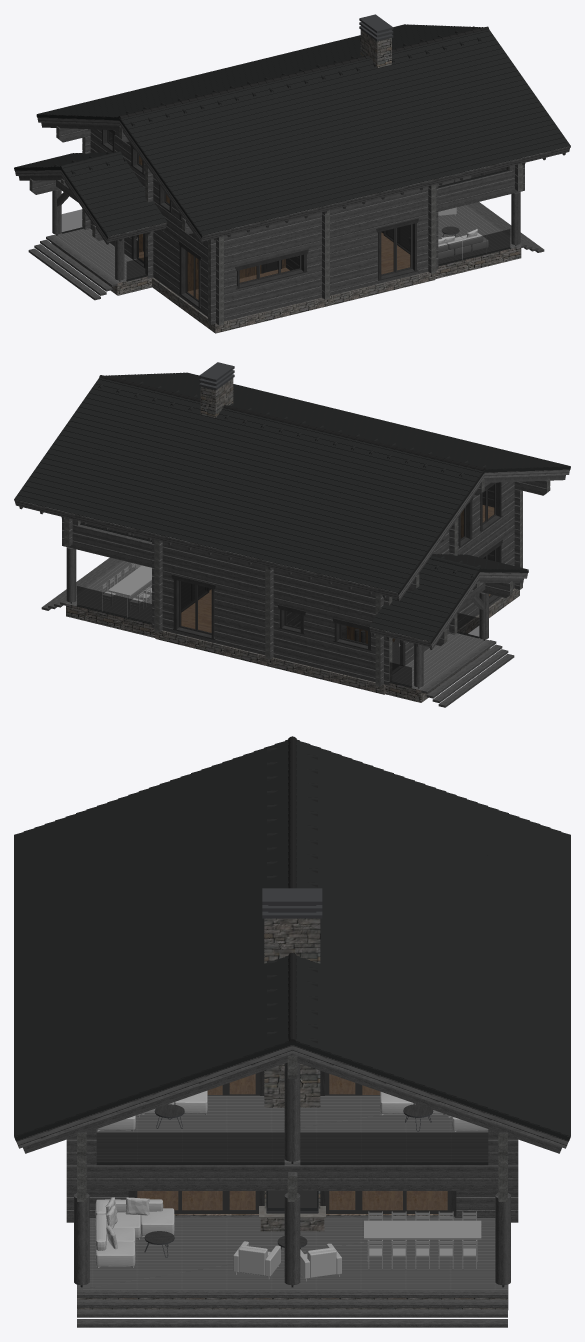
3 views of the same model, one above another, from view 1: azimuth 30°, elevation 25°; view 2: azimuth 150°, elevation 25°; view 3: azimuth 270°, elevation 25° (orthographic). The views are drawn at different scales.
Visible parts, largest first — view 1: Material12, Material13, Material5, Material28, Material11, Material8, Material26, Material14, Material1, Material24, Material34, Material45 (+4 smaller); view 2: Material12, Material13, Material5, Material28, Material11, Material8, Material26, Material14, Material1, Material34, Material38, Material24 (+3 smaller); view 3: Material12, Material11, Material13, Material28, Material5, Material45, Material1, Material8, Material17, Material38, Material36, Material35 (+4 smaller).
Boxes of the visible parts, x1,y1,x2,y2 form: Material12: [14, 24, 570, 281]; Material13: [18, 122, 565, 324]; Material5: [51, 30, 521, 333]; Material28: [61, 131, 510, 299]; Material11: [52, 168, 520, 283]; Material8: [15, 117, 570, 242]; Material26: [101, 129, 459, 309]; Material14: [29, 126, 522, 325]; Material1: [52, 189, 520, 280]; Material24: [107, 130, 412, 301]; Material34: [118, 26, 488, 118]; Material45: [409, 176, 488, 259]; Material12: [14, 372, 570, 688]; Material13: [19, 475, 565, 707]; Material5: [66, 378, 519, 702]; Material28: [77, 484, 494, 686]; Material11: [66, 522, 489, 690]; Material8: [14, 469, 569, 647]; Material26: [171, 482, 502, 665]; Material14: [64, 479, 550, 686]; Material1: [66, 547, 488, 687]; Material34: [99, 375, 485, 470]; Material38: [102, 563, 151, 611]; Material24: [179, 483, 495, 670]; Material12: [14, 739, 570, 1287]; Material11: [77, 1095, 507, 1289]; Material13: [23, 1053, 561, 1327]; Material28: [96, 1074, 488, 1211]; Material5: [77, 918, 507, 1309]; Material45: [95, 1090, 488, 1267]; Material1: [74, 1062, 510, 1285]; Material8: [16, 1045, 568, 1148]; Material17: [137, 1074, 447, 1214]; Material38: [364, 1211, 481, 1269]; Material36: [144, 888, 433, 1257]; Material35: [233, 1241, 341, 1281].
Size of what is drawn, in the model's own units: 20.59 by 10.33 by 14.93.
Materials: 29 (15 with a texture image).
